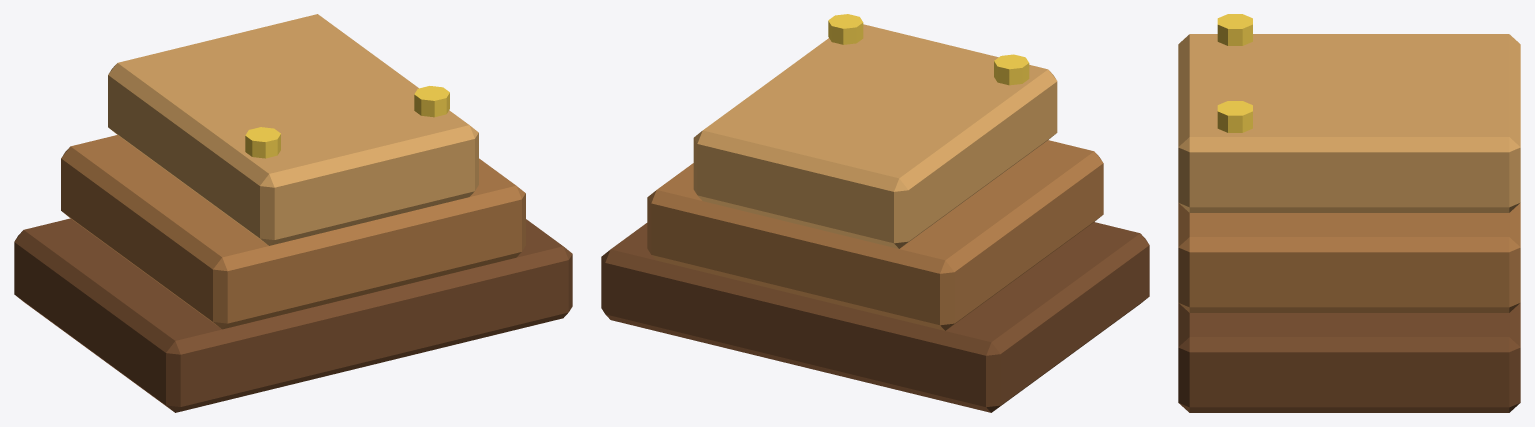
The model's file is wood_step.glb.
3 renders of one model, left to right at view 1: azimuth 30°, elevation 25°; view 2: azimuth 150°, elevation 25°; view 3: azimuth 270°, elevation 25°, orthographic. The views are drawn at different scales.
Parts seen in each view (by area): view 1: wood_step; view 2: wood_step; view 3: wood_step.
Boxes of the visible parts, x1,y1,x2,y2 form: wood_step: [14, 14, 572, 412]; wood_step: [601, 14, 1149, 412]; wood_step: [1178, 14, 1520, 412].
Bounding box in the file's own units: 1.3 × 0.72 × 0.9.
